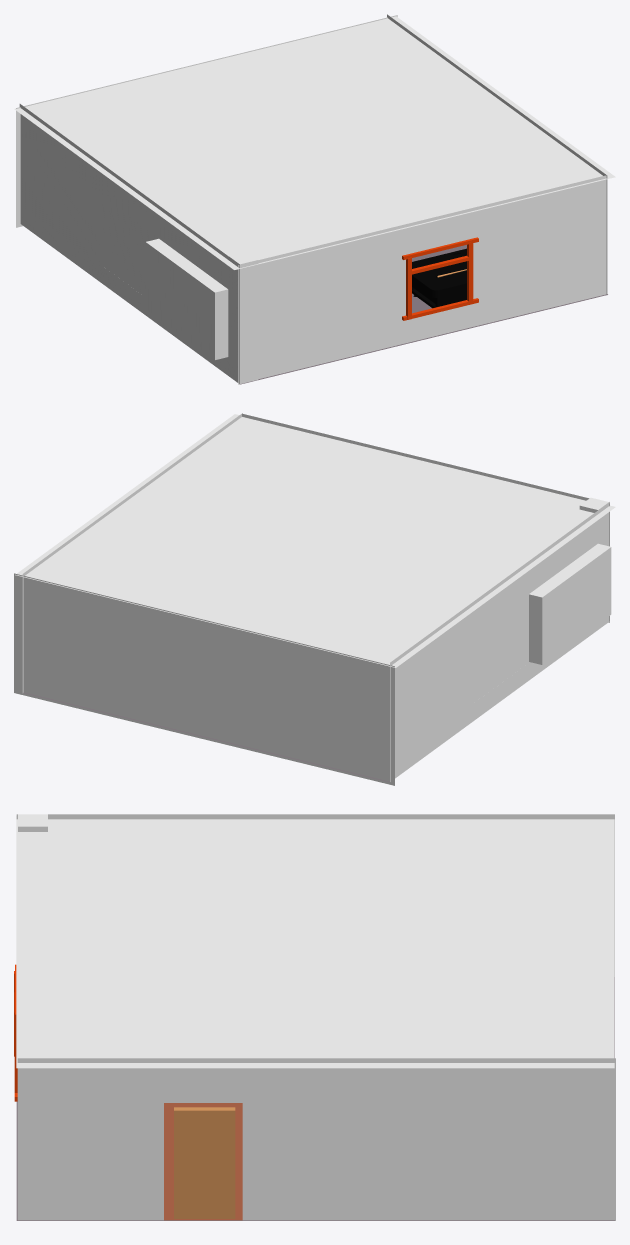
File: lounge .fbx
3 views of the same model, one above another, from view 1: azimuth 30°, elevation 25°; view 2: azimuth 150°, elevation 25°; view 3: azimuth 270°, elevation 25° (orthographic). The views are drawn at different scales.
Visible parts, largest first — view 1: room, pool_table; view 2: room; view 3: room, doorknob.
Boxes of the visible parts, x1,y1,x2,y2 form: room: (14, 14, 615, 384); pool_table: (412, 248, 466, 308); room: (14, 413, 615, 785); room: (14, 814, 615, 1220); doorknob: (174, 1107, 235, 1218).
Bounding box in the file's own units: 1023 × 307 × 1006.
